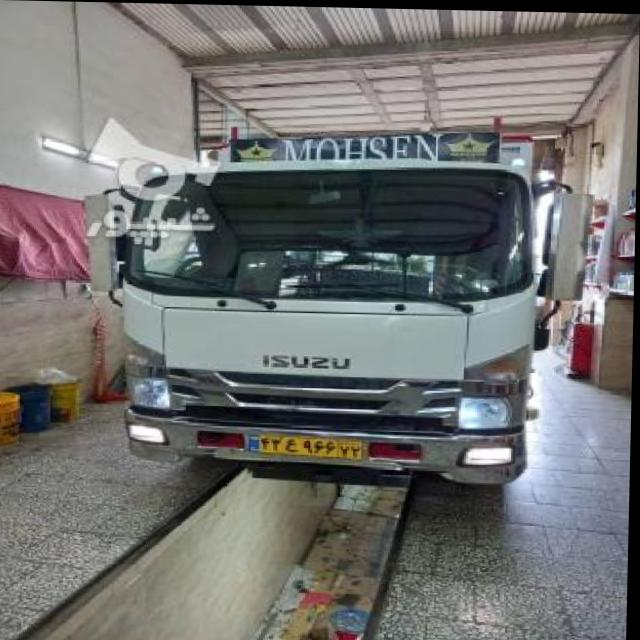licence: (242, 430, 374, 453)
